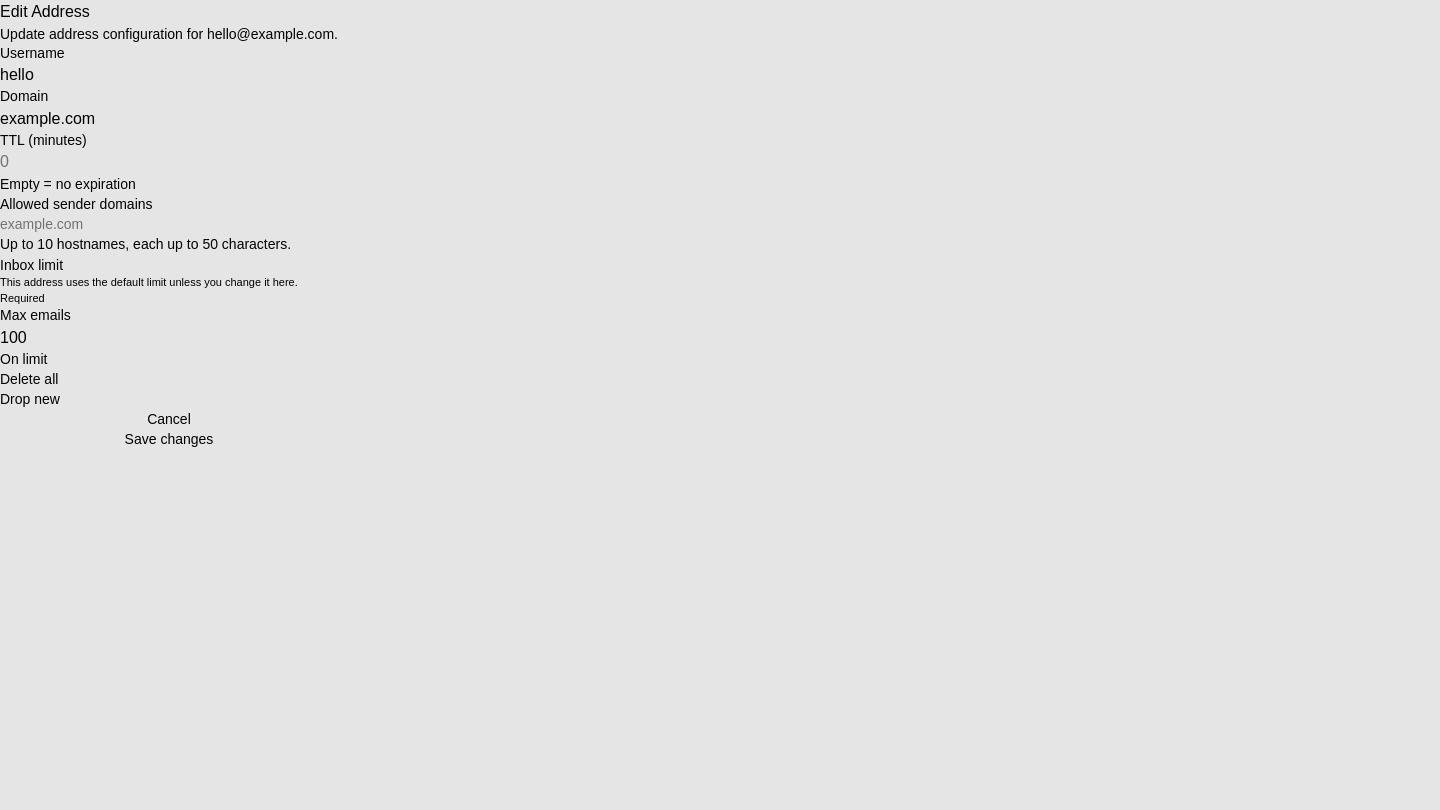
Test case: EditAddressSheet › blocks submit until the username change is acknowledged
Replace the text in the field labelled "Username" with "hello-2" at (169,75), box top-left (0, 63), bottom-right (338, 87)
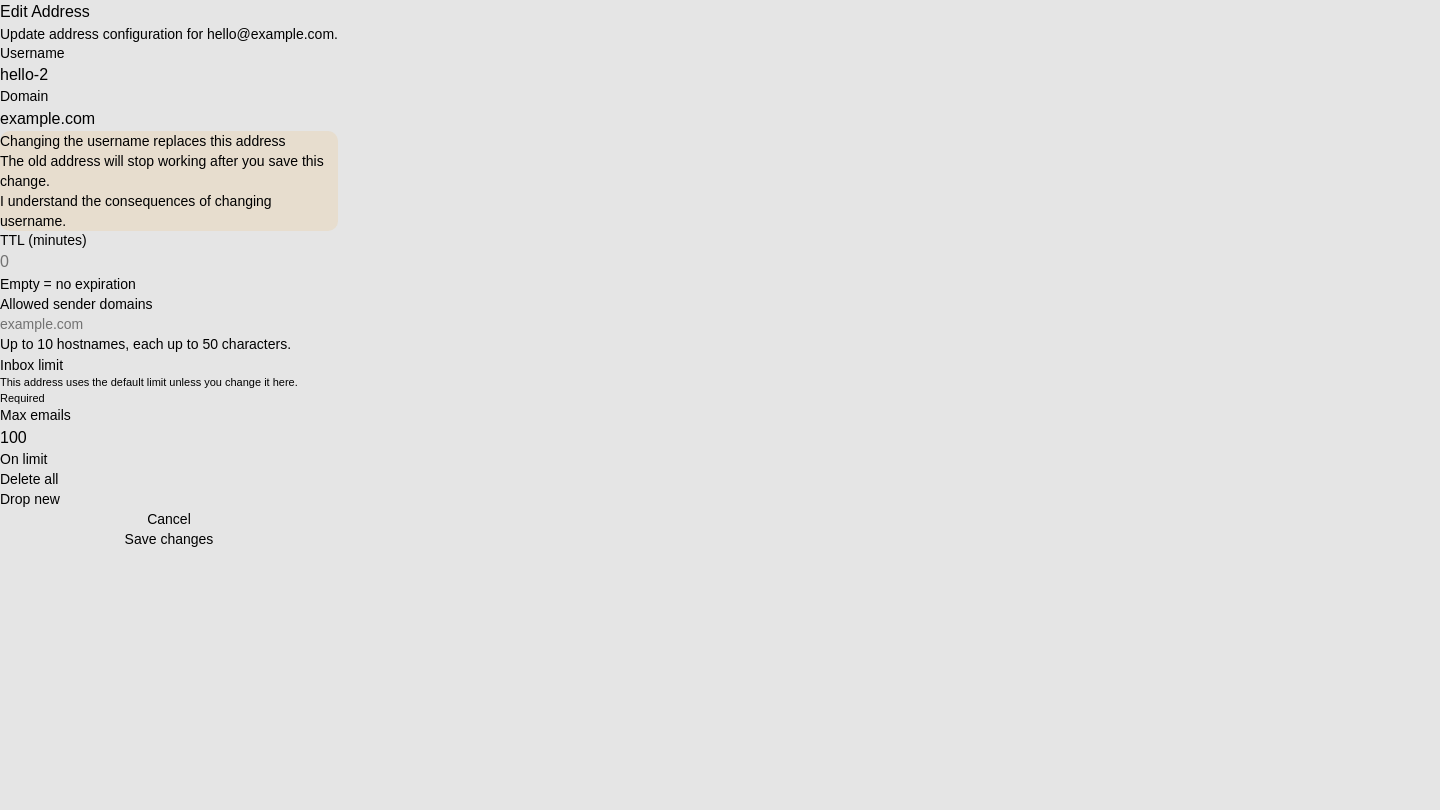
Click the button "Save changes" at (169,539), box top-left (0, 529), bottom-right (338, 549)
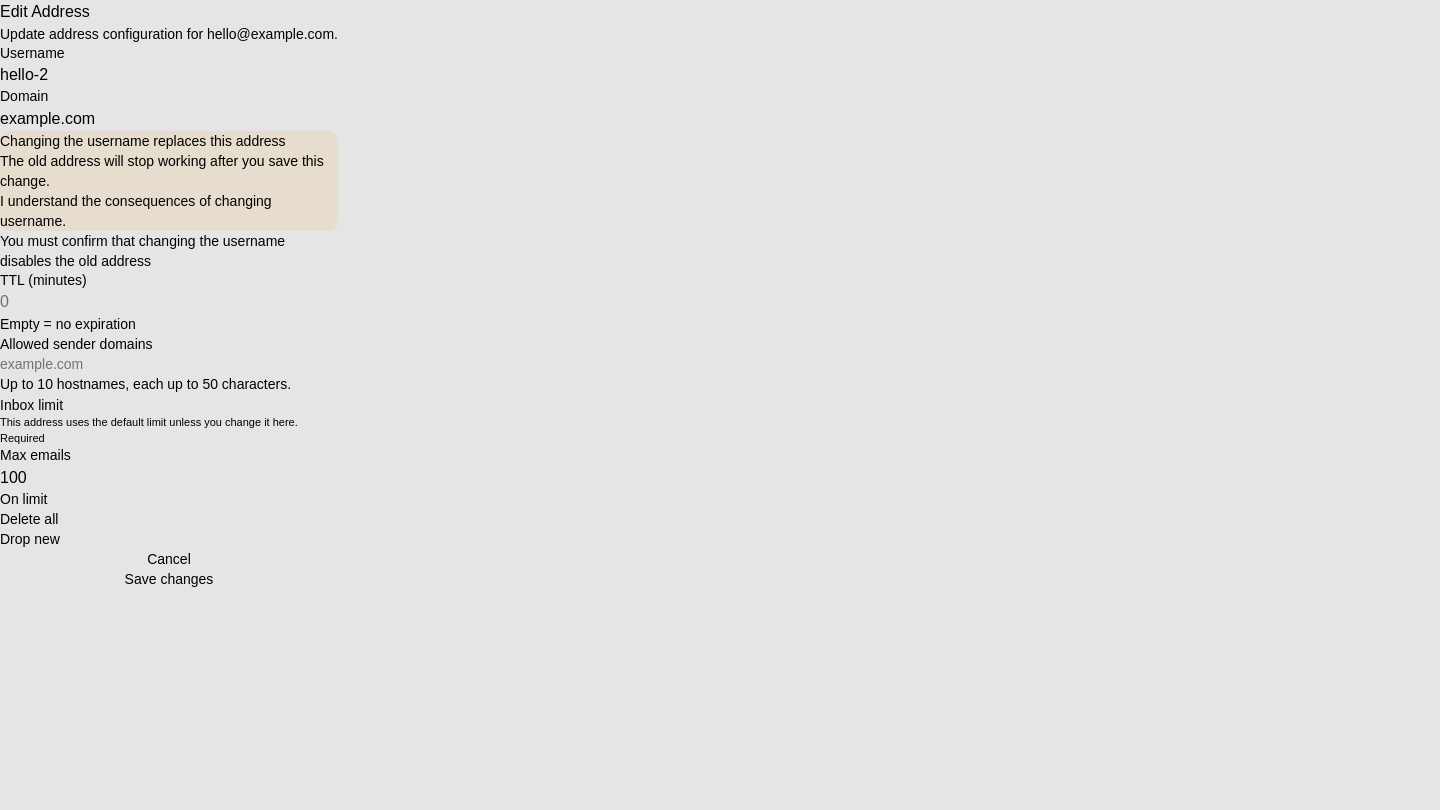
Expected: the text "You must confirm that changing the username disables the old address" is shown, top-left (0, 232), bottom-right (285, 268)
